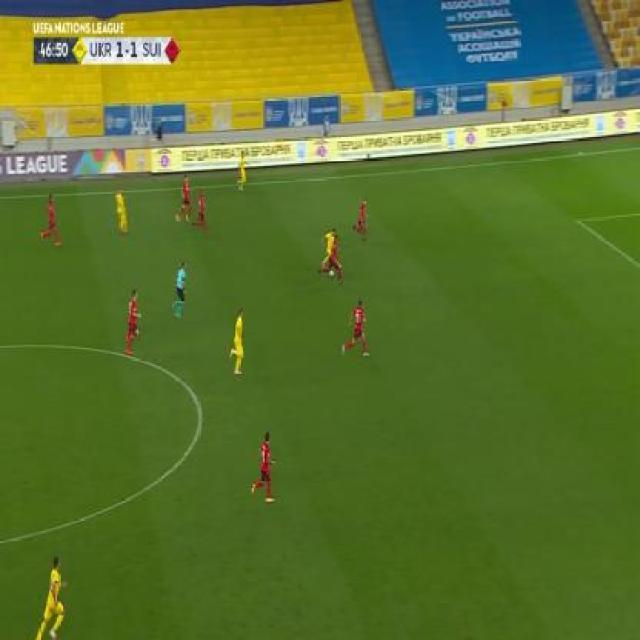ball: (329, 270, 334, 279)
player: (34, 554, 71, 639), (250, 431, 278, 507), (342, 298, 370, 360), (39, 192, 64, 249), (123, 288, 142, 359), (228, 306, 247, 377), (319, 236, 345, 285), (192, 187, 211, 236), (171, 261, 187, 317), (175, 174, 192, 225), (351, 196, 370, 241), (113, 186, 130, 234), (322, 226, 336, 265), (236, 149, 247, 189)
